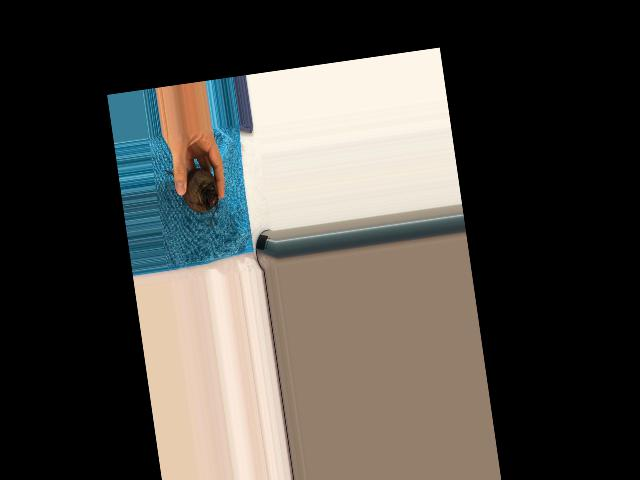beet: (164, 163, 222, 231)
